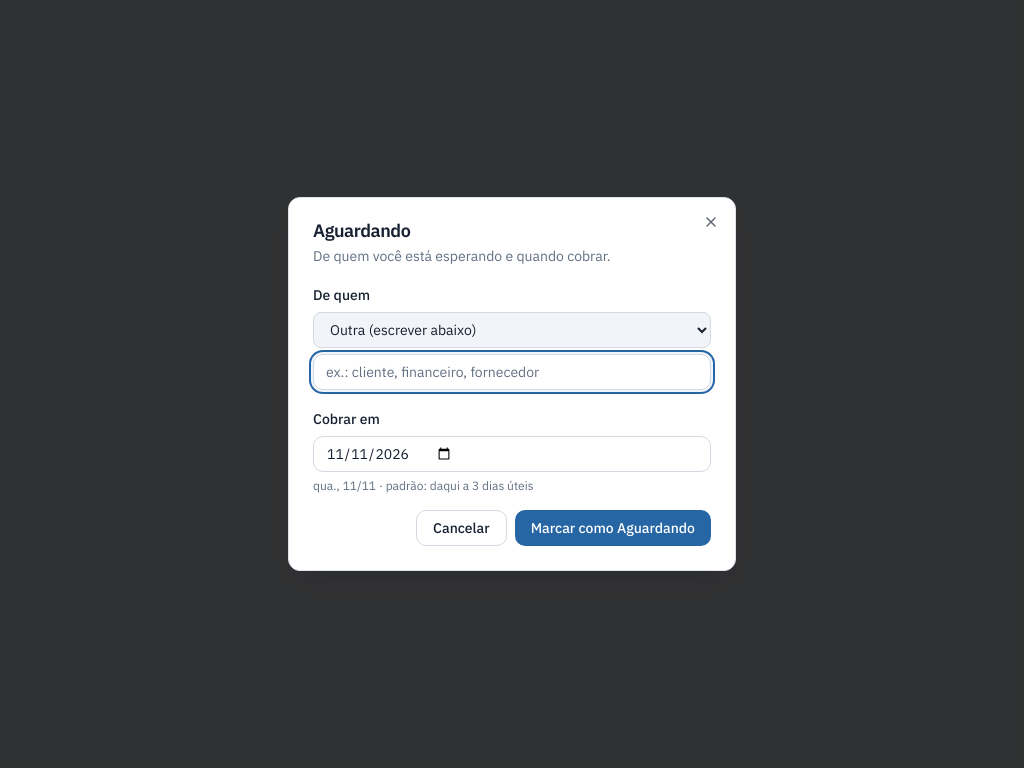
item 1: Aguardando nas telas › diálogo: data padrão em 3 dias úteis e 'de quem' obrigatório
The width and height of the screenshot is (1024, 768).
Later steps or results of the test are not shown.
Click the button "Marcar como Aguardando": (613, 528) [515,510,711,546]
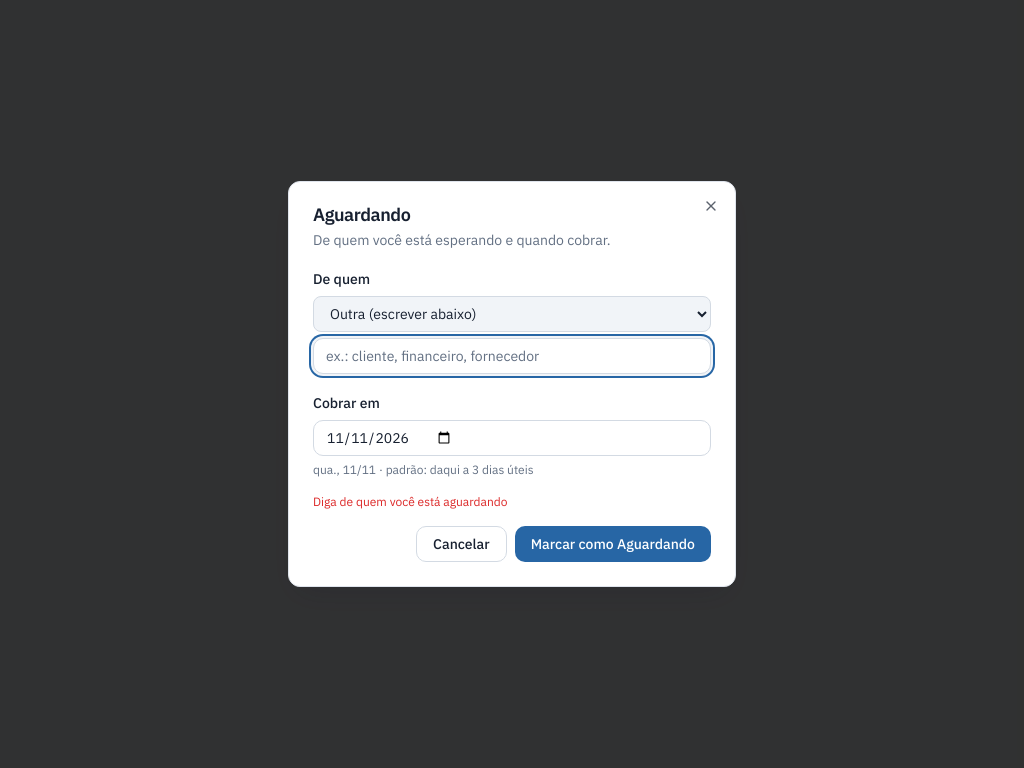
Expected: the message shows "Diga de quem", [313,494,508,509]
